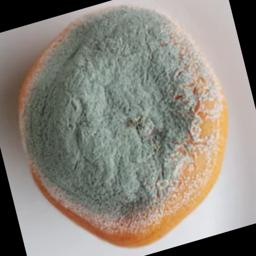Orange Rotten: (2, 4, 251, 251)
